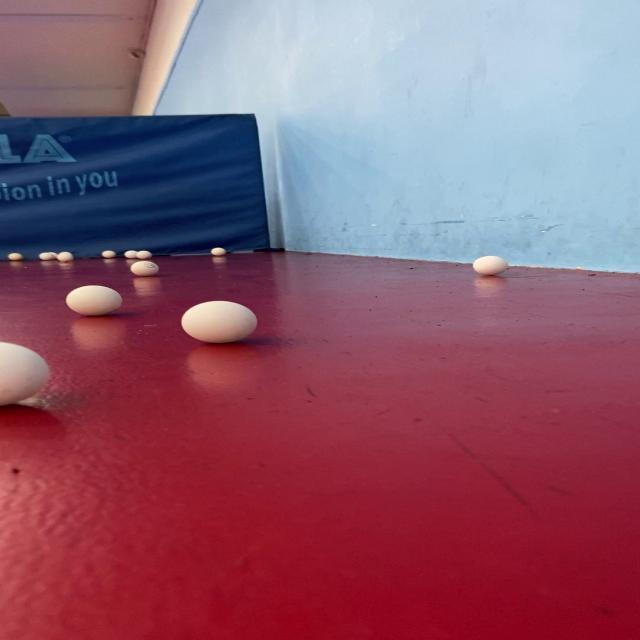ping-pong-ball: (178, 298, 264, 347), (58, 280, 129, 318), (466, 254, 514, 278), (126, 258, 164, 278)
